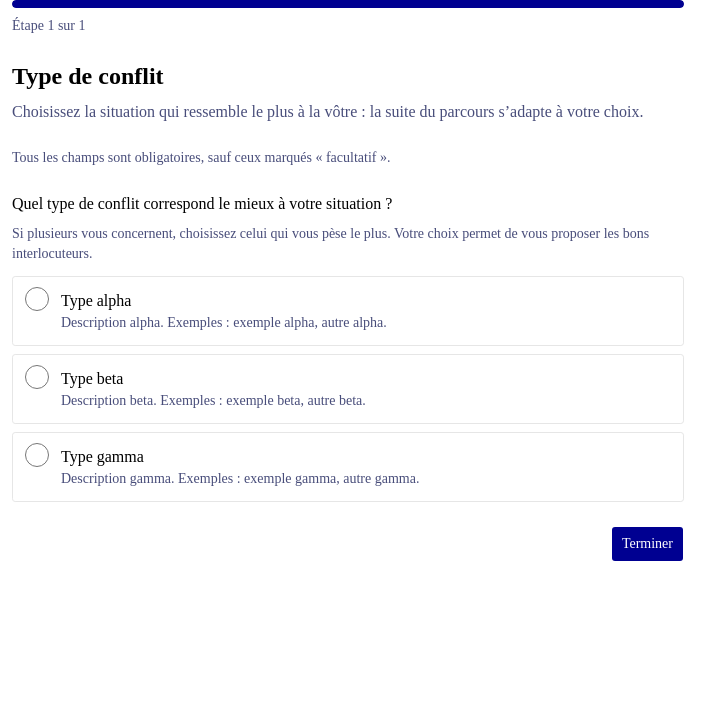
Scenario: conflict type step › refuses to go on without a choice, with a clear message
Click the button "Terminer" at point(647, 544), box [611,526,684,562]
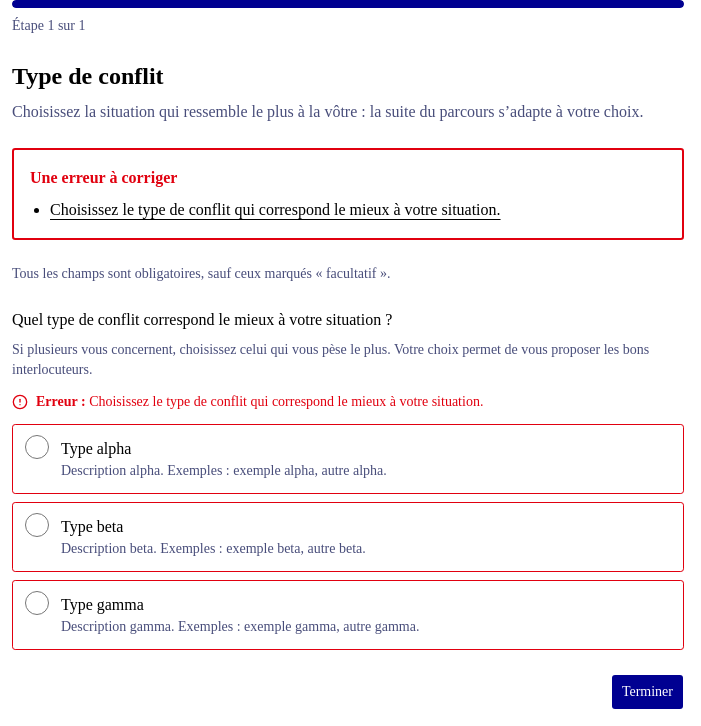
expect the message shows "Choisissez le type de conflit qui correspond le mieux à votre situation.": met, box [50,201,501,218]
